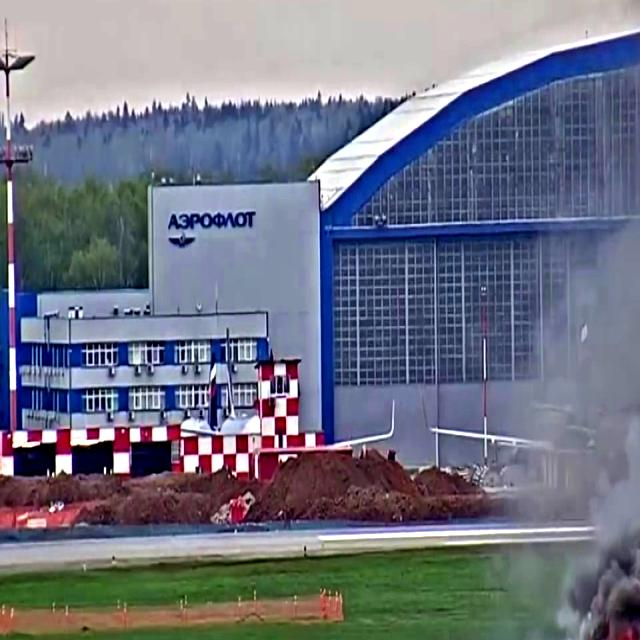smoke: (566, 507, 640, 639)
